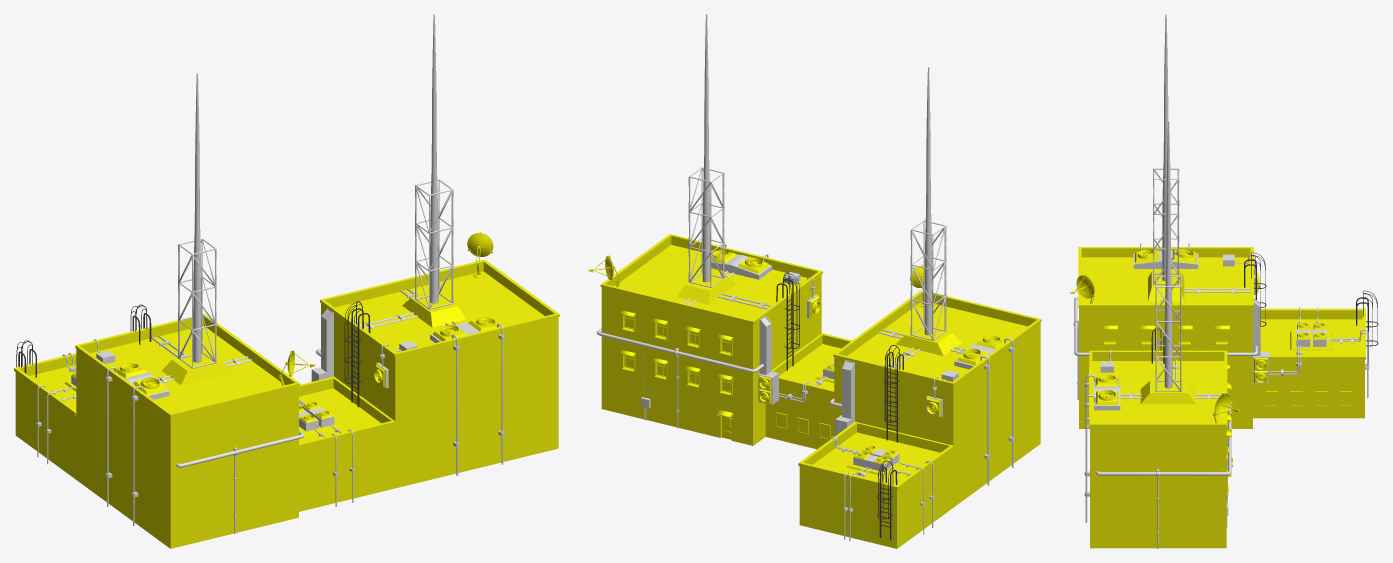
The model's file is TurbineBuilding_LOD0.glb.
3 renders of one model, left to right at view 1: azimuth 30°, elevation 25°; view 2: azimuth 150°, elevation 25°; view 3: azimuth 270°, elevation 25°, orthographic. The views are drawn at different scales.
Parts seen in each view (by area): view 1: Plane.007_2, Plane.007_3; view 2: Plane.007_3, Plane.007_2; view 3: Plane.007_3, Plane.007_2.
Boxes of the visible parts, x1,y1,x2,y2 form: Plane.007_2: (299, 14, 559, 511); Plane.007_3: (14, 73, 315, 548); Plane.007_3: (798, 67, 1041, 548); Plane.007_2: (588, 14, 851, 449); Plane.007_3: (1070, 14, 1378, 428); Plane.007_2: (1084, 121, 1239, 548).
Size of the model in its own units: 0.9439 by 0.9426 by 0.6713.
14 materials, 11 textured.
